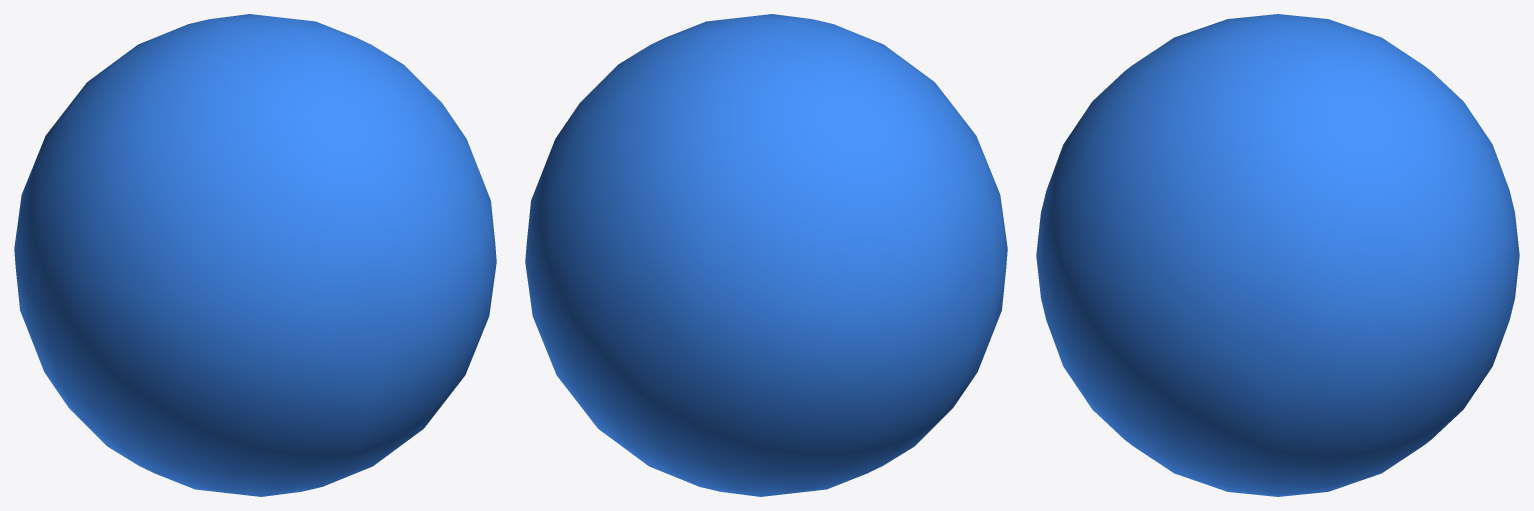
The model's file is marble.glb.
3 renders of one model, left to right at view 1: azimuth 30°, elevation 25°; view 2: azimuth 150°, elevation 25°; view 3: azimuth 270°, elevation 25°, orthographic.
Visible parts, largest first — view 1: marble; view 2: marble; view 3: marble.
Part boxes in pixels (x1,y1,x2,y2): marble: [14, 14, 496, 496]; marble: [525, 14, 1007, 496]; marble: [1036, 14, 1519, 496].
Bounding box in the file's own units: 0.04 × 0.04 × 0.04.
